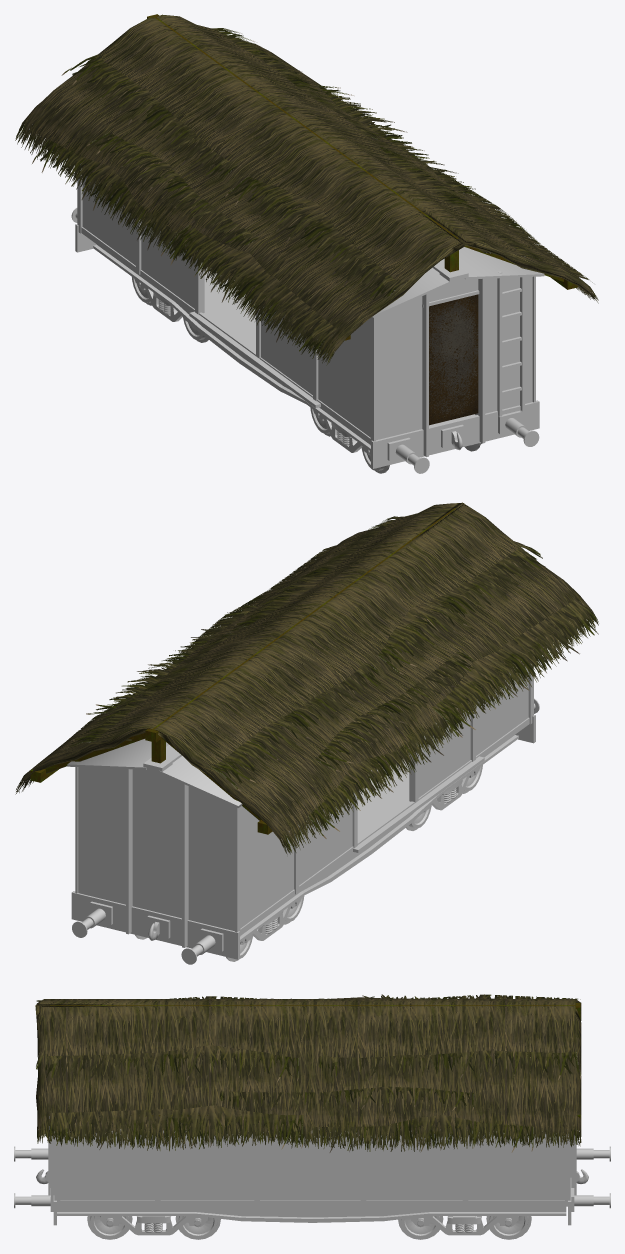
The model's file is VagaoHabitacional_02Jun.fbx.
The picture shows the model from 3 angles, top to bottom: view 1: azimuth 30°, elevation 25°; view 2: azimuth 150°, elevation 25°; view 3: azimuth 270°, elevation 25°; orthographic projection. The views are drawn at different scales.
Parts seen in each view (by area): view 1: polySurface1; view 2: polySurface1; view 3: polySurface1.
Boxes of the visible parts, x1,y1,x2,y2 form: polySurface1: (15,14,598,473); polySurface1: (15,502,598,964); polySurface1: (14,994,610,1239).
Size of the model in its own units: 539 by 405 by 1015.
